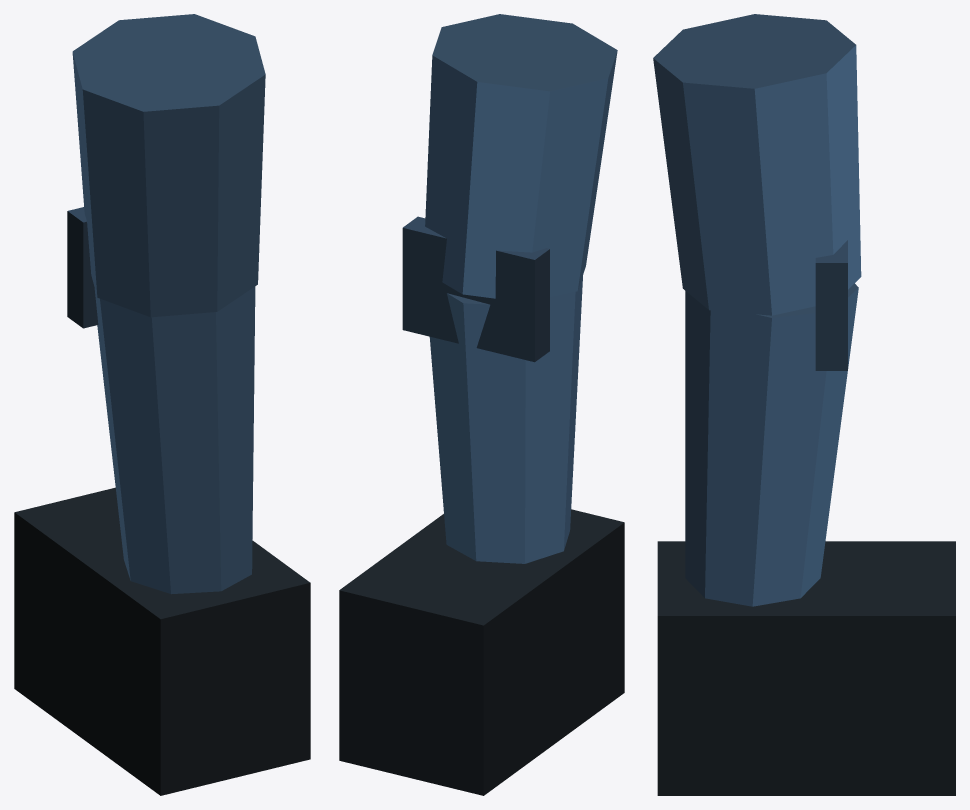
File: counter_terrorist_right_leg.obj
3 renders of one model, left to right at view 1: azimuth 30°, elevation 25°; view 2: azimuth 150°, elevation 25°; view 3: azimuth 270°, elevation 25°, orthographic. The views are drawn at different scales.
Visible parts, largest first — view 1: counter_terrorist_right_leg; view 2: counter_terrorist_right_leg; view 3: counter_terrorist_right_leg.
Part boxes in pixels (x1,y1,x2,y2): counter_terrorist_right_leg: (14,14,310,795); counter_terrorist_right_leg: (339,14,624,795); counter_terrorist_right_leg: (653,14,955,795).
Bounding box in the file's own units: 8.54 × 31.38 × 12.19.
1 material, 1 textured.
